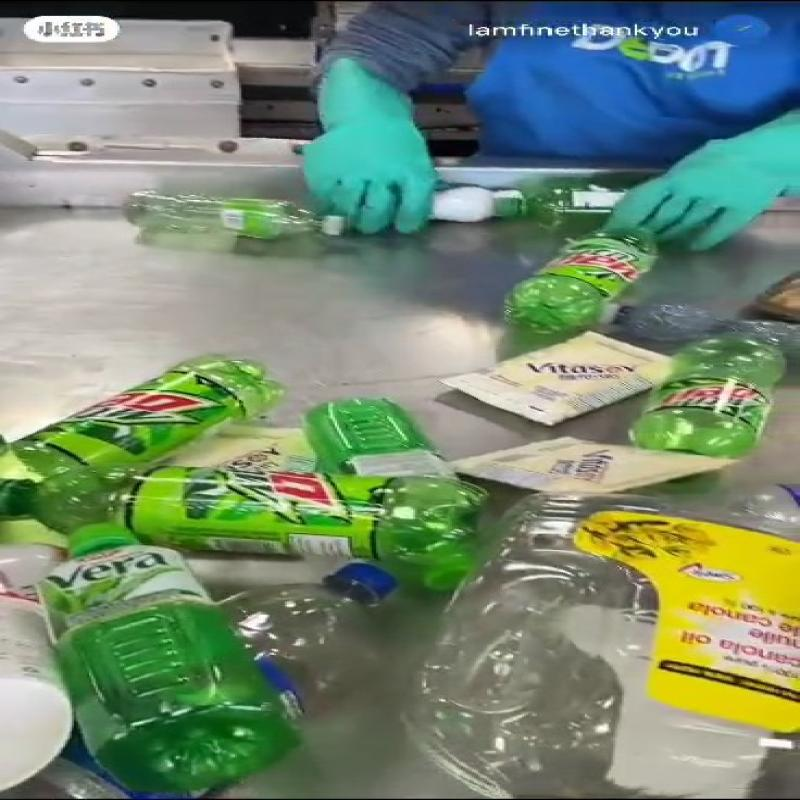botella: (36, 511, 297, 791), (0, 457, 478, 579), (0, 347, 280, 494), (203, 553, 398, 694), (620, 324, 799, 462), (503, 219, 670, 342), (290, 388, 459, 496), (431, 170, 671, 232), (130, 185, 350, 237)
